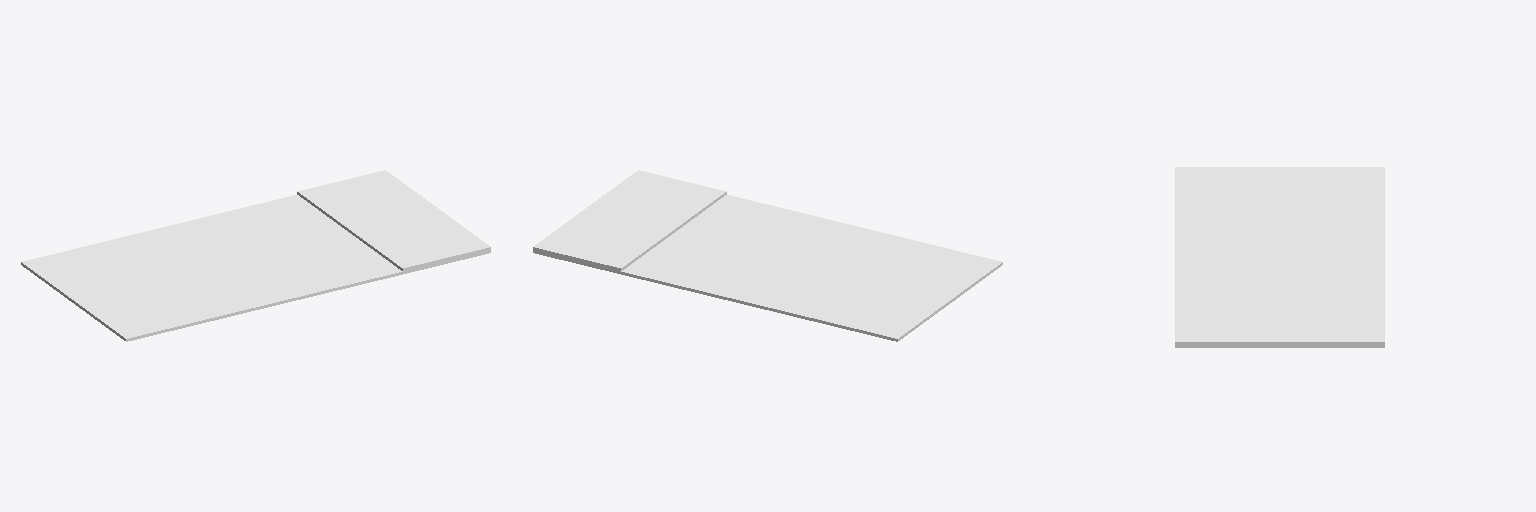
File: Floor3-3.obj
3 views of the same model, side by side, from view 1: azimuth 30°, elevation 25°; view 2: azimuth 150°, elevation 25°; view 3: azimuth 270°, elevation 25° (orthographic).
Visible parts, largest first — view 1: Floor3-3; view 2: Floor3-3; view 3: Floor3-3.
Boxes of the visible parts, x1,y1,x2,y2 form: Floor3-3: [21, 170, 490, 341]; Floor3-3: [533, 170, 1002, 341]; Floor3-3: [1175, 167, 1384, 347].
Bounding box in the file's own units: 12.8 × 0.2 × 6.4.